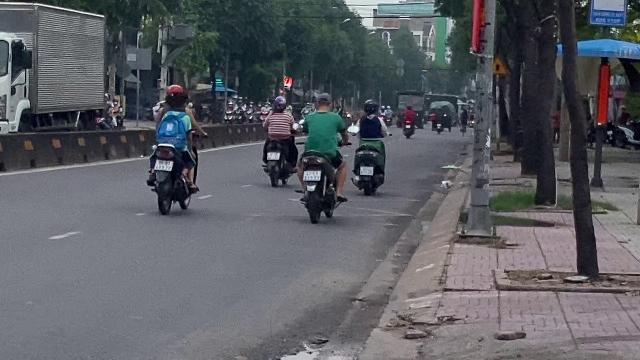helmet: (164, 82, 186, 98), (172, 92, 188, 112)
licenseplate: (154, 160, 173, 172), (304, 171, 320, 181)
motorcyclist: (144, 82, 202, 214), (295, 91, 349, 221)
nohelmet: (314, 92, 332, 110)
